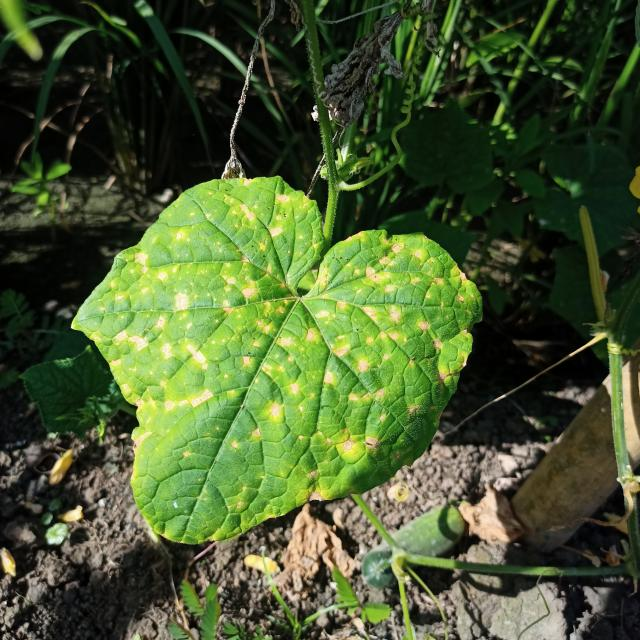disease_cucumber: (89, 179, 470, 526)
